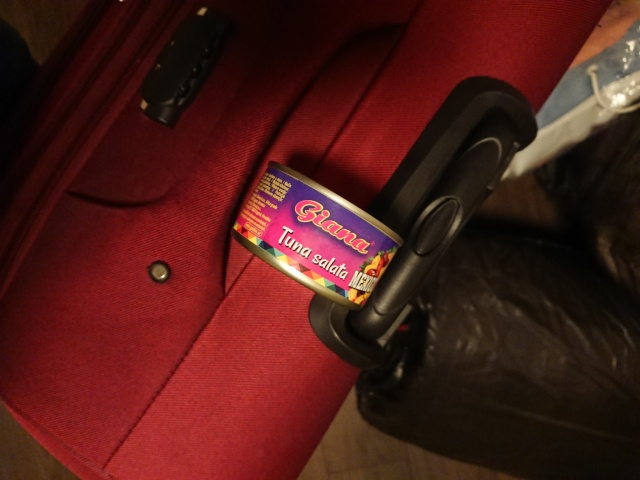Giana Tuna Salad Mexico 185g: (228, 158, 406, 312)
